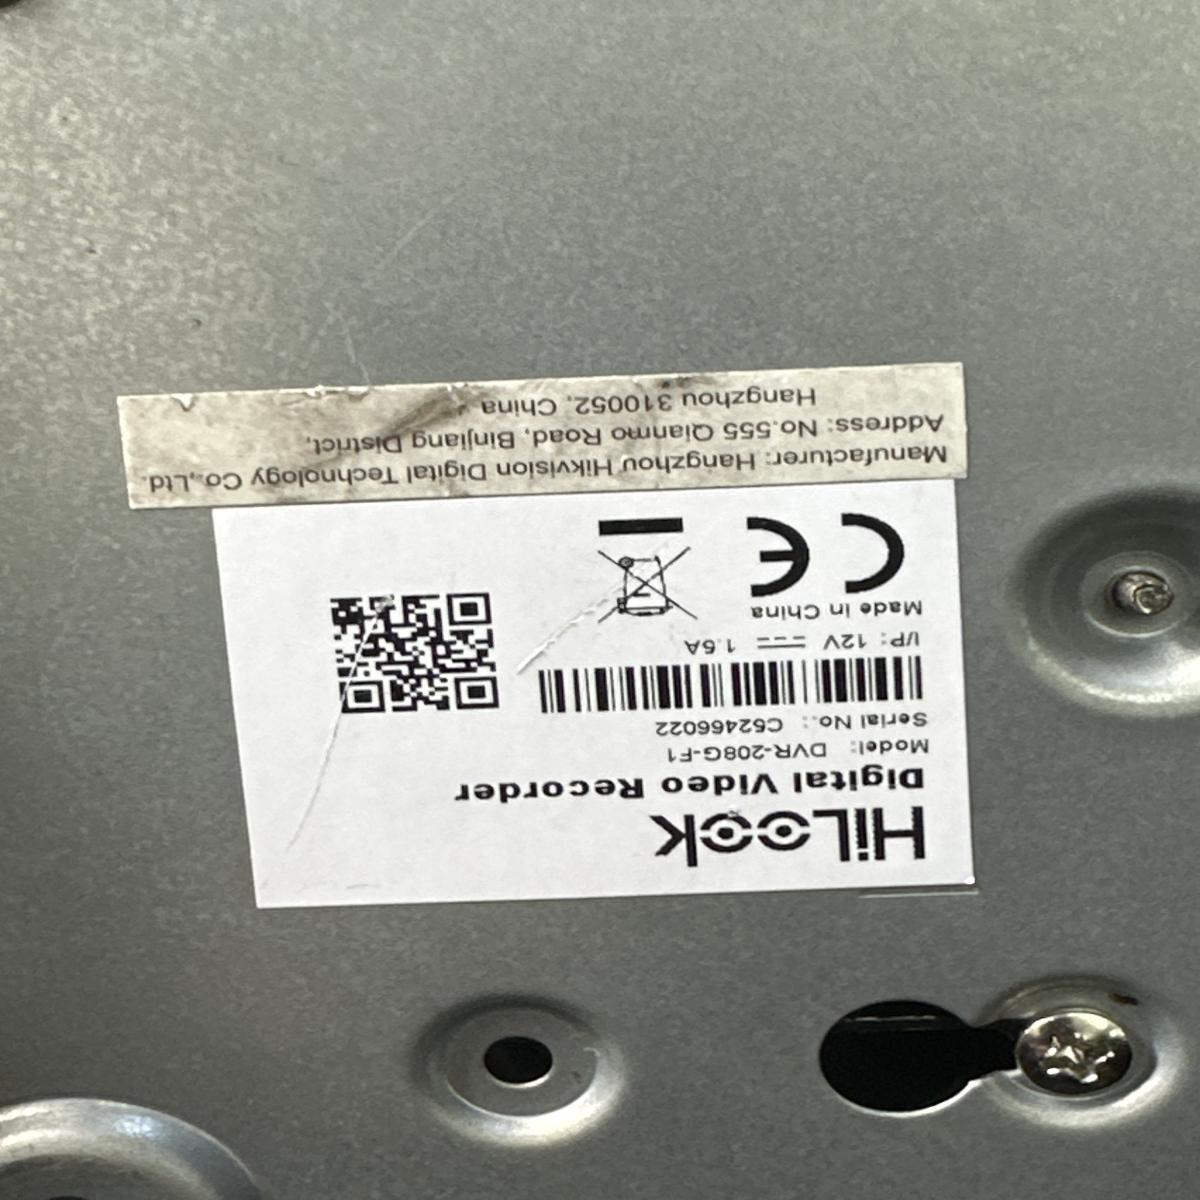Barcode: (524, 648, 933, 722)
Label: (212, 480, 968, 911)
